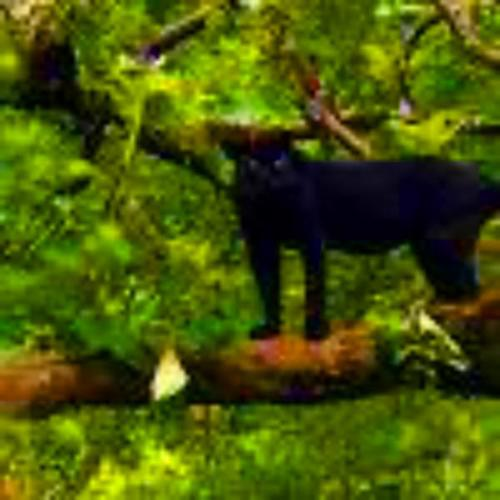panther-endangered: (219, 133, 498, 342)
